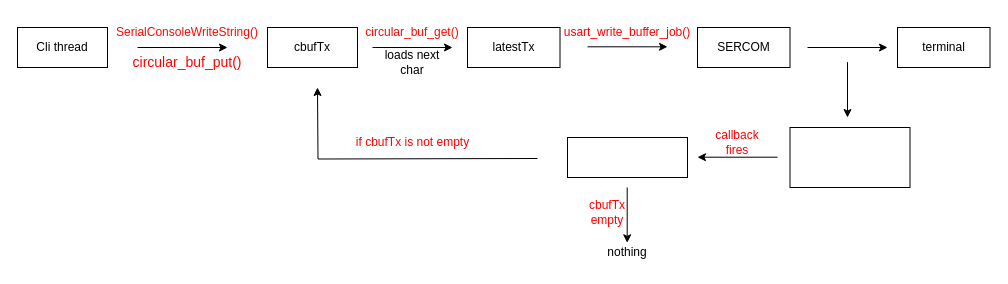
Image size: 1008x284. Some labels were removed from this diagram. The box of each missing label's shape, as (x1, y1, x2, y2) in pixels:
USART_ CALLBACK_ BUFFER_ TRANSMITTED: (789, 126, 910, 188)
usart_write_callback: (566, 136, 688, 178)
